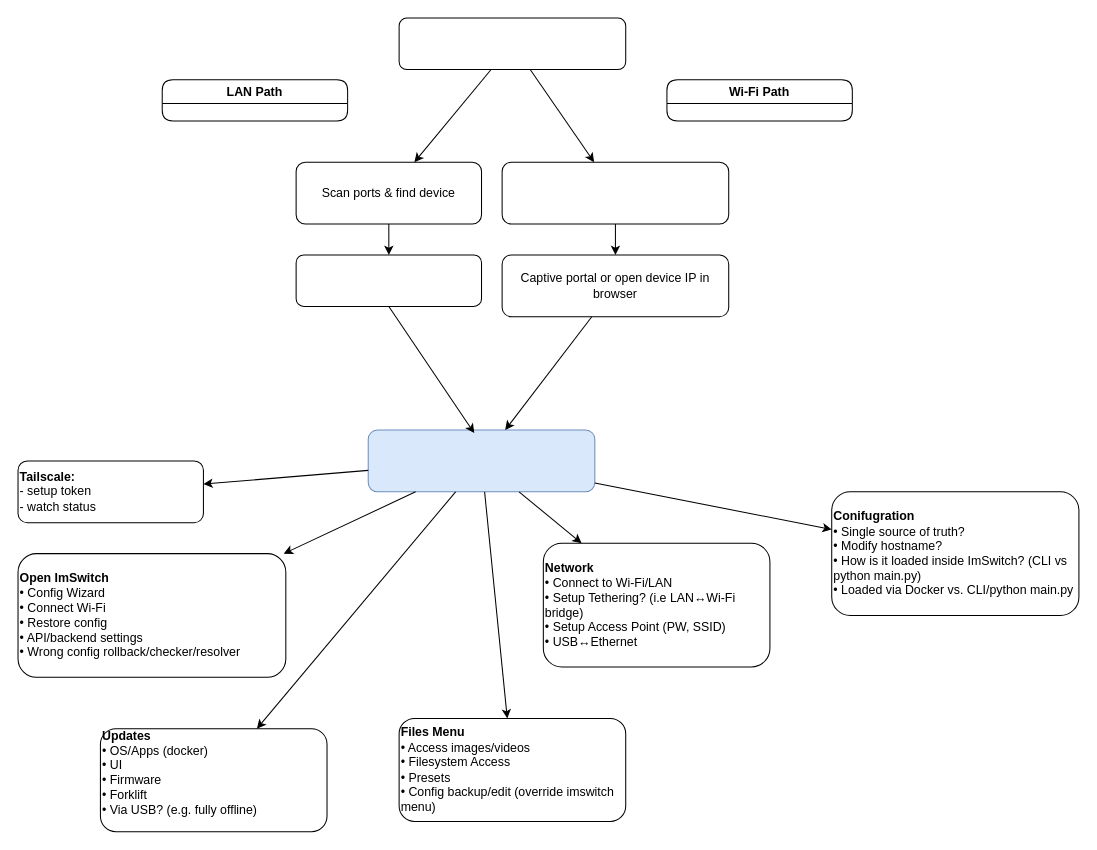
This 1097x850 diagram has some shape labels left out. The centre of each missing label's shape, as x and y in pixels:
Enter IP in browser: pixel 388 280
Landing Page (ImSwitch‑OS): pixel 481 460
Scan SSIDs → connect with PW: pixel 615 192
Unpack Microscope & Power On: pixel 512 43
